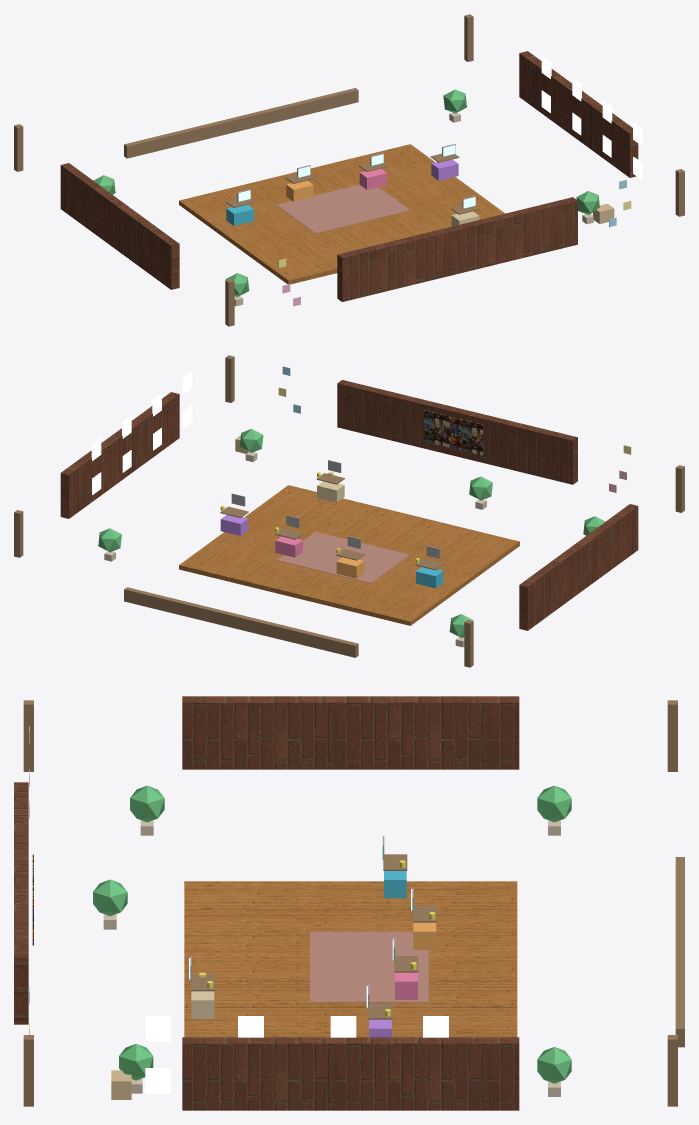
Rendered from loft_room.glb.
3 renders of one model, top to bottom at view 1: azimuth 30°, elevation 25°; view 2: azimuth 150°, elevation 25°; view 3: azimuth 270°, elevation 25°, orthographic. The views are drawn at different scales.
Parts seen in each view (by area): view 1: Floor, WallBack, WallLeft, WallRight, WallFrontLow, Rug, Desk2, Desk3, Desk0, Desk1; view 2: Floor, WallBack, WallLeft, WallRight, WallFrontLow, Rug, ConceptMural, Desk1, Desk3, Desk2, Desk4, Desk0; view 3: Floor, WallLeft, WallRight, Rug, WallBack, WallFrontLow, Leaf2, Leaf0, Leaf1, Leaf4, Leaf3, Post0 (+9 smaller).
Part boxes in pixels (x1,y1,x2,y2): Floor: [179, 144, 504, 284]; WallBack: [337, 197, 577, 301]; WallLeft: [60, 163, 179, 289]; WallRight: [519, 51, 638, 177]; WallFrontLow: [124, 88, 358, 158]; Rug: [277, 184, 409, 233]; Desk2: [359, 168, 386, 189]; Desk3: [431, 159, 458, 180]; Desk0: [226, 204, 253, 225]; Desk1: [286, 180, 313, 201]; Floor: [179, 485, 519, 625]; WallBack: [337, 380, 577, 484]; WallLeft: [519, 504, 638, 630]; WallRight: [60, 392, 179, 518]; WallFrontLow: [124, 587, 358, 657]; Rug: [276, 531, 409, 583]; ConceptMural: [424, 410, 483, 455]; Desk1: [336, 557, 364, 578]; Desk3: [220, 515, 248, 535]; Desk2: [275, 536, 302, 557]; Desk4: [317, 481, 344, 502]; Desk0: [416, 567, 443, 588]; Floor: [184, 881, 517, 1037]; WallLeft: [182, 696, 519, 769]; WallRight: [182, 1037, 519, 1110]; Rug: [310, 931, 428, 1002]; WallBack: [14, 782, 28, 1024]; WallFrontLow: [675, 857, 684, 1047]; Leaf2: [537, 1047, 571, 1083]; Leaf0: [537, 785, 571, 822]; Leaf1: [130, 785, 164, 822]; Leaf4: [93, 879, 127, 916]; Leaf3: [119, 1044, 153, 1080]; Post0: [23, 700, 33, 771].
Bounding box in the file's own units: 22.2 × 3.73 × 18.12.
Materials: 25 (3 with a texture image).
